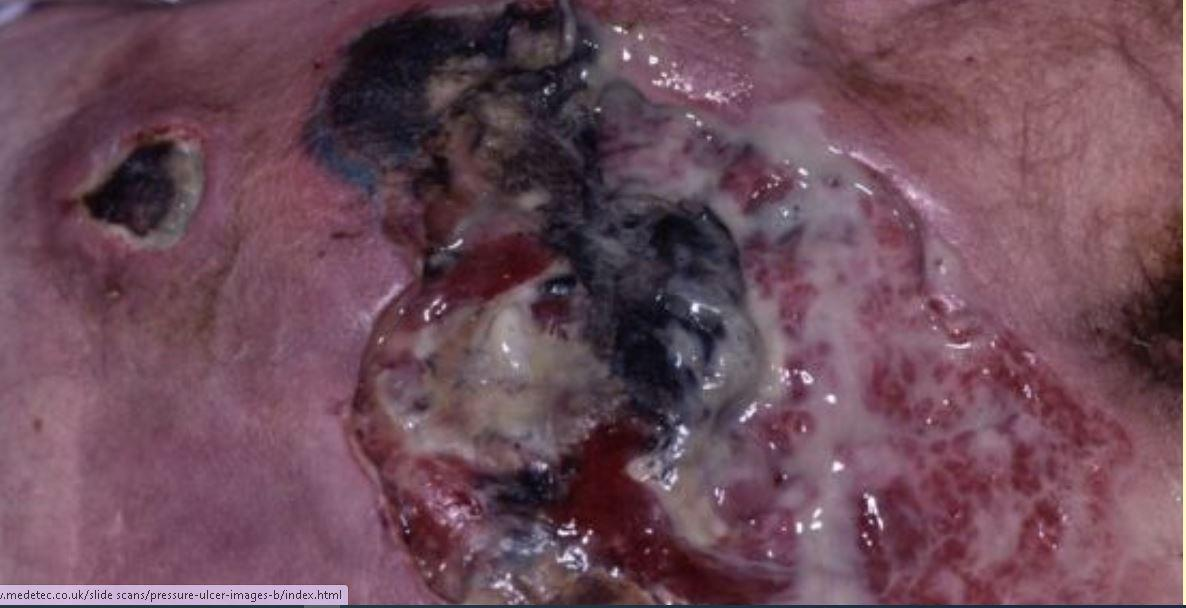Stage3: (305, 0, 1163, 590)
